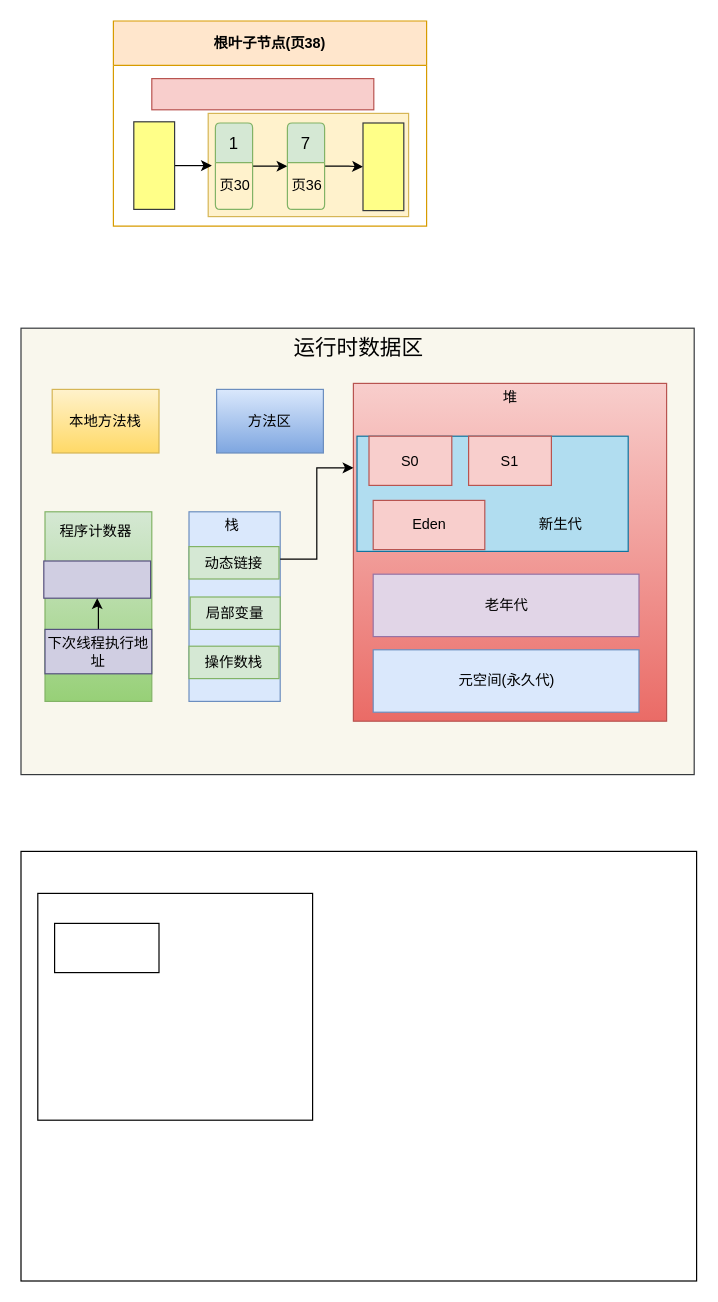
The diagram is 718 pixels wide and 1302 high, and some of its shapes have lost their labels. Each missing label, with the centre of its shape:
最大记录: [383,166]
最小记录: [154,165]
此时字节码行数: [97,579]
页目录: [262,93]
